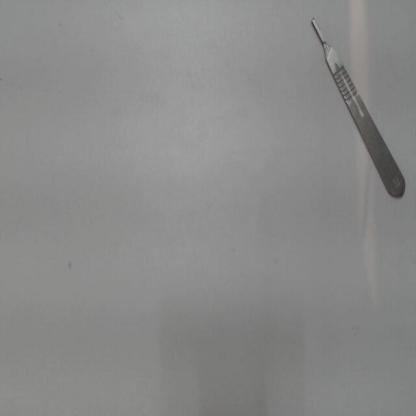No.3 BP Handle: (304, 10, 414, 208)
